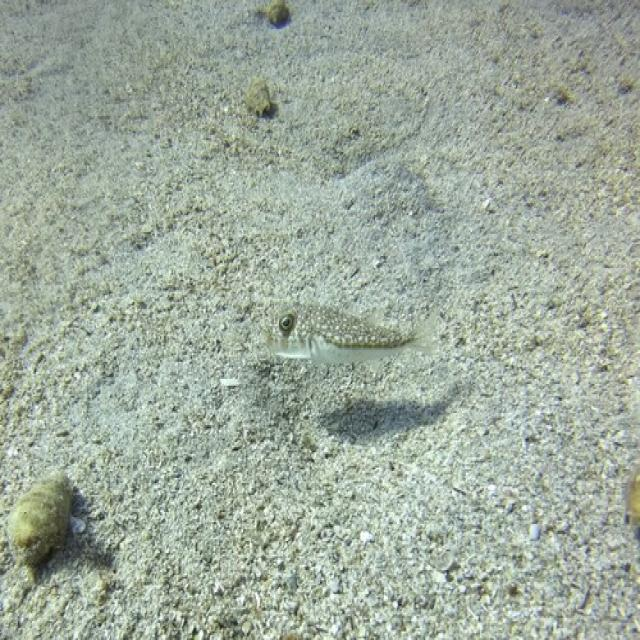Balik: (265, 304, 433, 363)
